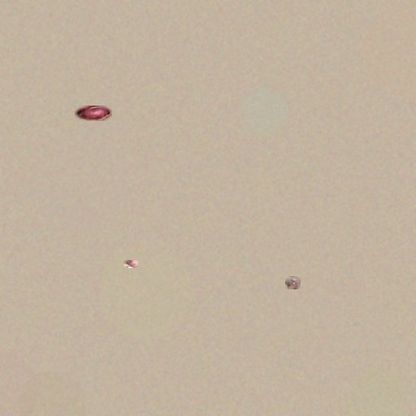healthy: (75, 106, 112, 121)
rotten: (285, 276, 301, 289)
sprouted: (124, 260, 138, 268)
